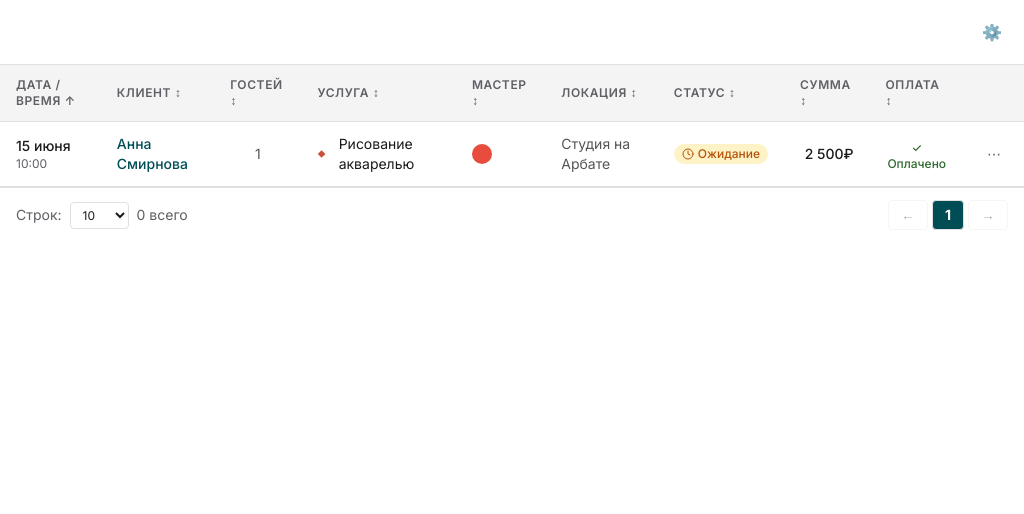
RecordsTable › detail panel service title carries the DiamondIcon for private rows
Step 1. Click the text "Анна Смирнова" → (512, 154), box [0,122,1023,186]
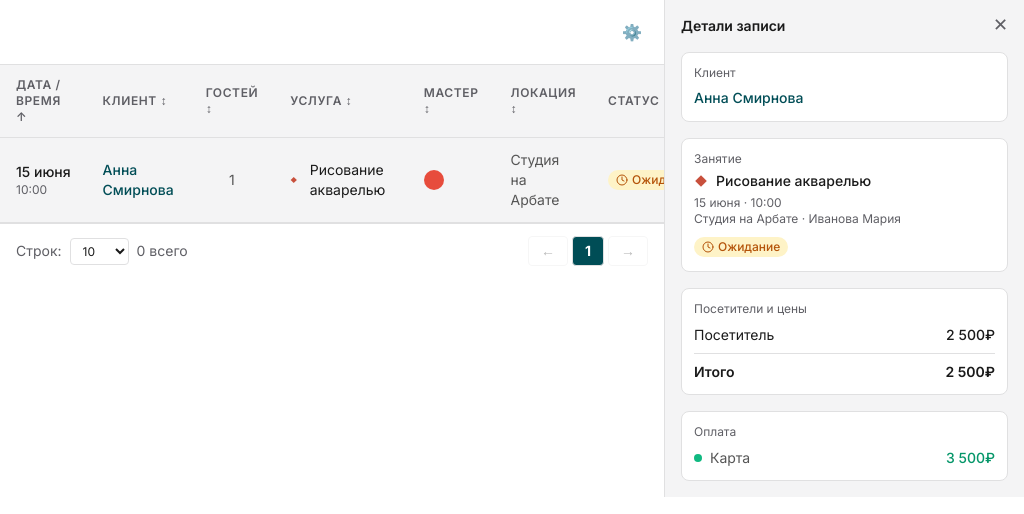
expect the number of icons named "Индивидуальное занятие" is 2: met, box [290,173,298,187]; [694,174,708,188]
expect the heading "Детали записи" is shown: met, box [681,16,785,36]
